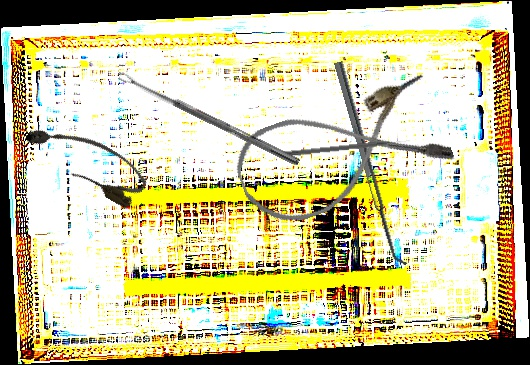Cannula: (226, 70, 457, 236), (20, 108, 153, 212)
Pusher: (277, 138, 411, 159)
Spatula Surgical: (333, 58, 410, 269)
Surgical Spoon: (118, 70, 301, 167)
